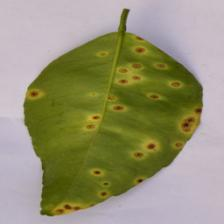canker: (74, 37, 186, 176)
